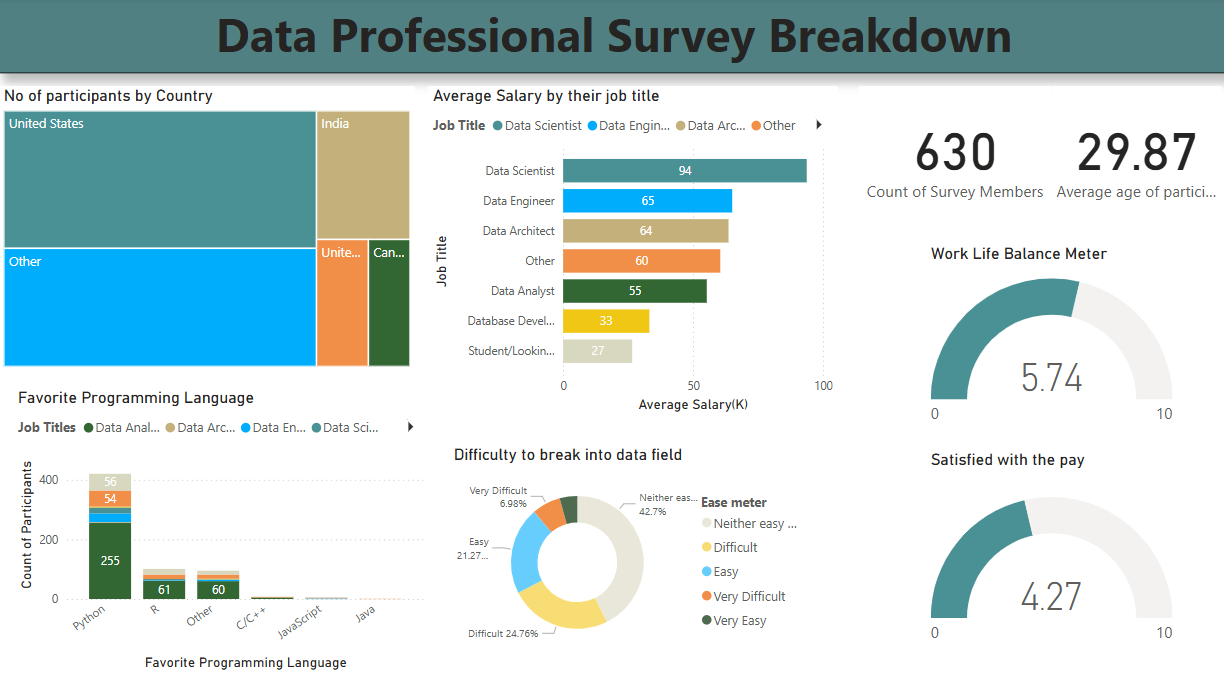

What the dashboard file says about the page in this screenshot:
{"tool":"powerbi","page":{"name":"Page 1","canvas":[1280,720],"ordinal":0},"visuals":[{"type":"textbox","box":[0,0,1280.6,79],"z":0},{"type":"card","fields":{"Values":["Count(Data Professional Survey.Unique ID)"]},"box":[895.8,91.9,199.7,143.1],"z":1000},{"type":"card","fields":{"Values":["Avg(Data Professional Survey.Q10 - Current Age)"]},"box":[1095.5,91.9,176.7,143.1],"z":2000},{"type":"barChart","title":"Average Salary by their job title","fields":{"Category":["Data Professional Survey.Q1 - Which Title Best Fits your Current Role?.1"],"Y":["Avg(Data Professional Survey.Average Salary)"],"Series":["Data Professional Survey.Q1 - Which Title Best Fits your Current Role?.1"]},"box":[447,91.9,425.8,344.6],"z":3000},{"type":"columnChart","title":"Favorite Programming Language","fields":{"Category":["Data Professional Survey.Q5 - Favorite Programming Language.1"],"Y":["CountNonNull(Data Professional Survey.Unique ID)"],"Series":["Data Professional Survey.Q1 - Which Title Best Fits your Current Role?.1"]},"box":[14.1,406.4,432.9,298.6],"z":4000},{"type":"treemap","fields":{"Group":["Data Professional Survey.Q11 - Which Country do you live in?.1"],"Values":["CountNonNull(Data Professional Survey.Q11 - Which Country do you live in?.1)"]},"box":[0,91.9,432.9,296.8],"z":5000},{"type":"gauge","title":"Work Life Balance Meter","fields":{"Y":["Avg(Data Professional Survey.Q6 - How Happy are you in your Current Position with the following? (Work/Life Balance))"],"MinValue":["Min(Data Professional Survey.Q6 - How Happy are you in your Current Position with the following? (Work/Life Balance))1"],"MaxValue":["Max(Data Professional Survey.Q6 - How Happy are you in your Current Position with the following? (Work/Life Balance))2"]},"box":[964.7,256.2,261.5,208.5],"z":6000},{"type":"gauge","title":"Satisfied with the pay","fields":{"Y":["Avg(Data Professional Survey.Q6 - How Happy are you in your Current Position with the following? (Salary))"],"MinValue":["Min(Data Professional Survey.Q6 - How Happy are you in your Current Position with the following? (Salary))1"],"MaxValue":["Max(Data Professional Survey.Q6 - How Happy are you in your Current Position with the following? (Salary))2"]},"box":[964.7,471.8,261.5,233.2],"z":7000},{"type":"donutChart","title":"Difficulty to break into data field","fields":{"Category":["Data Professional Survey.Q7 - How difficult was it for you to break into Data?"],"Y":["CountNonNull(Data Professional Survey.Q7 - How difficult was it for you to break into Data?)"]},"box":[468.2,466.5,378.1,222.6],"z":8000}]}

Visuals, with their boxes in screenshot pixels (x1, y1, x2, y2), scaled from the page's 1280x720 canvas onto the 1224x685 screenshot:
textbox: [left=0, top=0, right=1223, bottom=75]
card - Count(Data Professional Survey.Unique ID): [left=857, top=87, right=1048, bottom=224]
card - Avg(Data Professional Survey.Q10 - Current Age): [left=1048, top=87, right=1217, bottom=224]
"Average Salary by their job title" barChart: [left=427, top=87, right=835, bottom=415]
"Favorite Programming Language" columnChart: [left=13, top=387, right=427, bottom=671]
treemap - Data Professional Survey.Q11 - Which Country do you live in?.1 x CountNonNull(Data Professional Survey.Q11 - Which Country do you live in?.1): [left=0, top=87, right=414, bottom=370]
"Work Life Balance Meter" gauge: [left=922, top=244, right=1173, bottom=442]
"Satisfied with the pay" gauge: [left=922, top=449, right=1173, bottom=671]
"Difficulty to break into data field" donutChart: [left=448, top=444, right=809, bottom=656]
